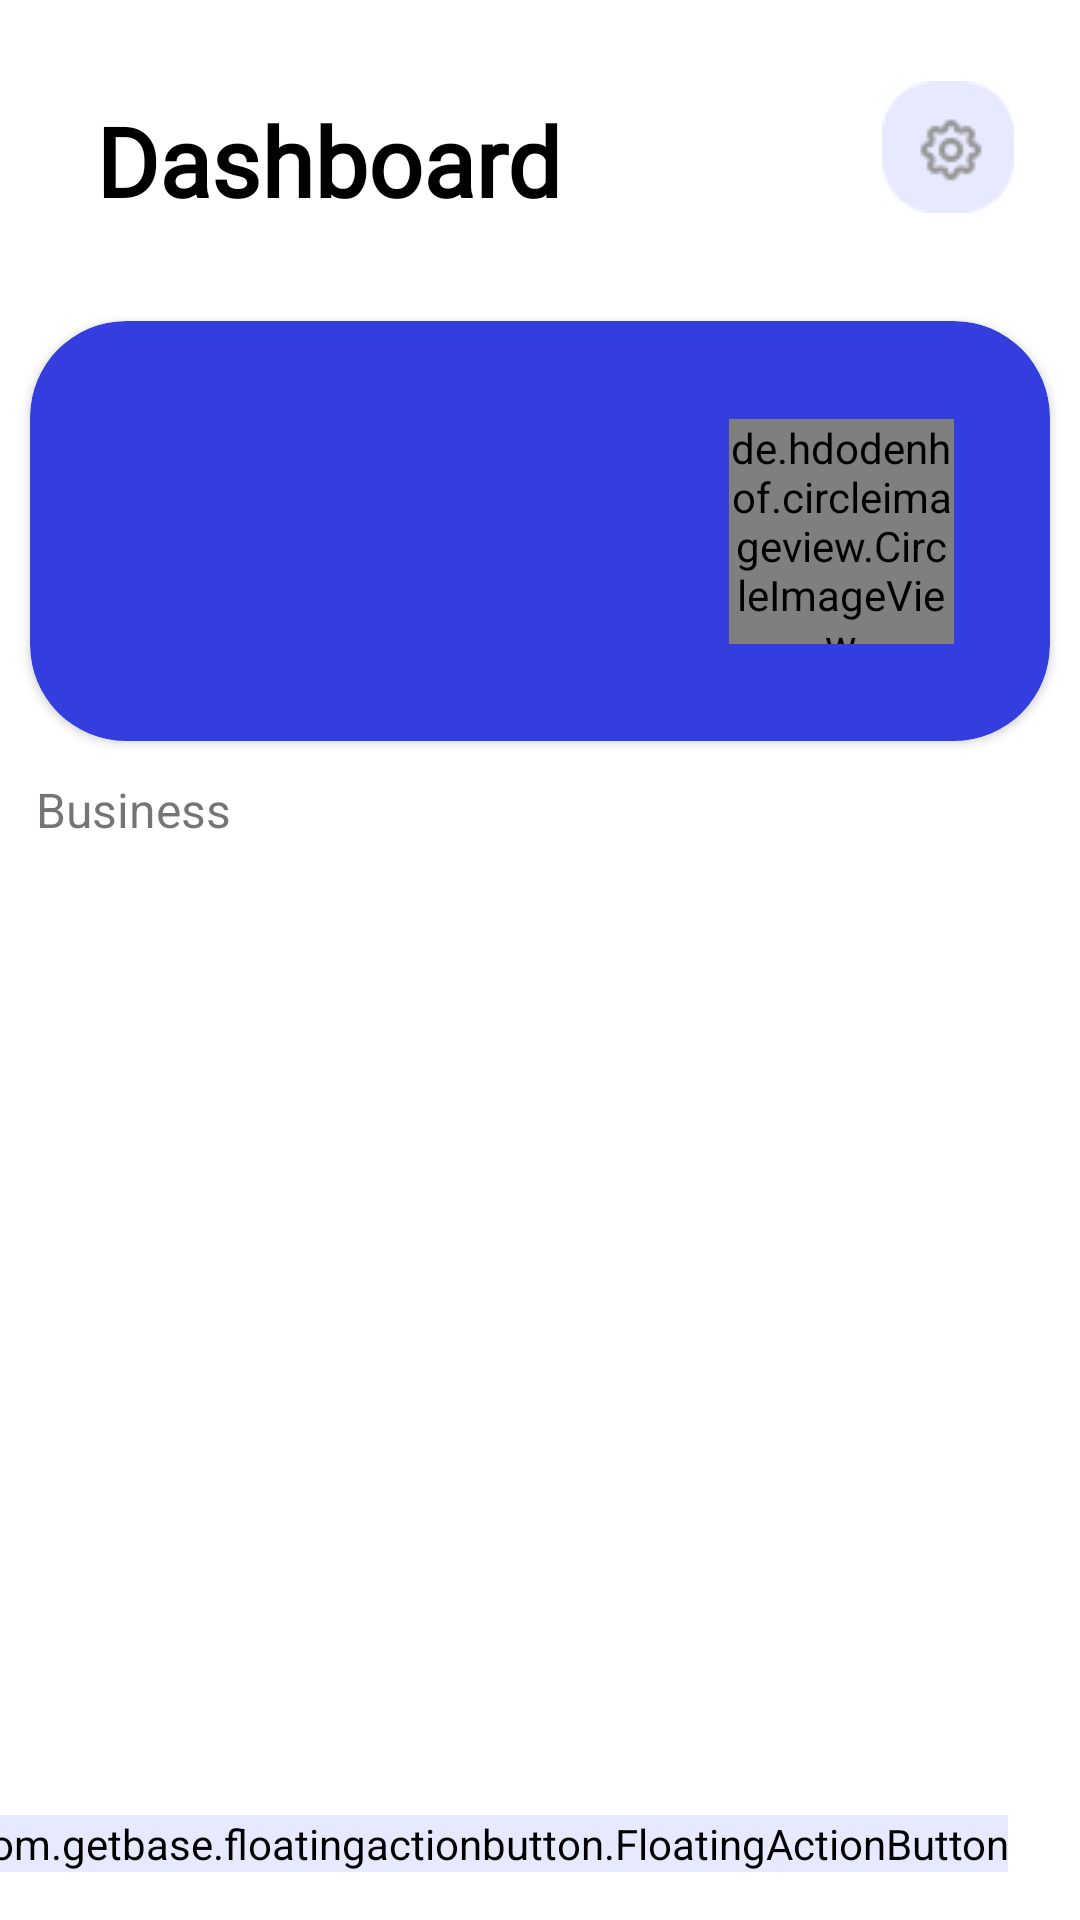

Named icons in this screenshot (1080 × 1920) and their centers, (x,y):
Settings: (951,150)
